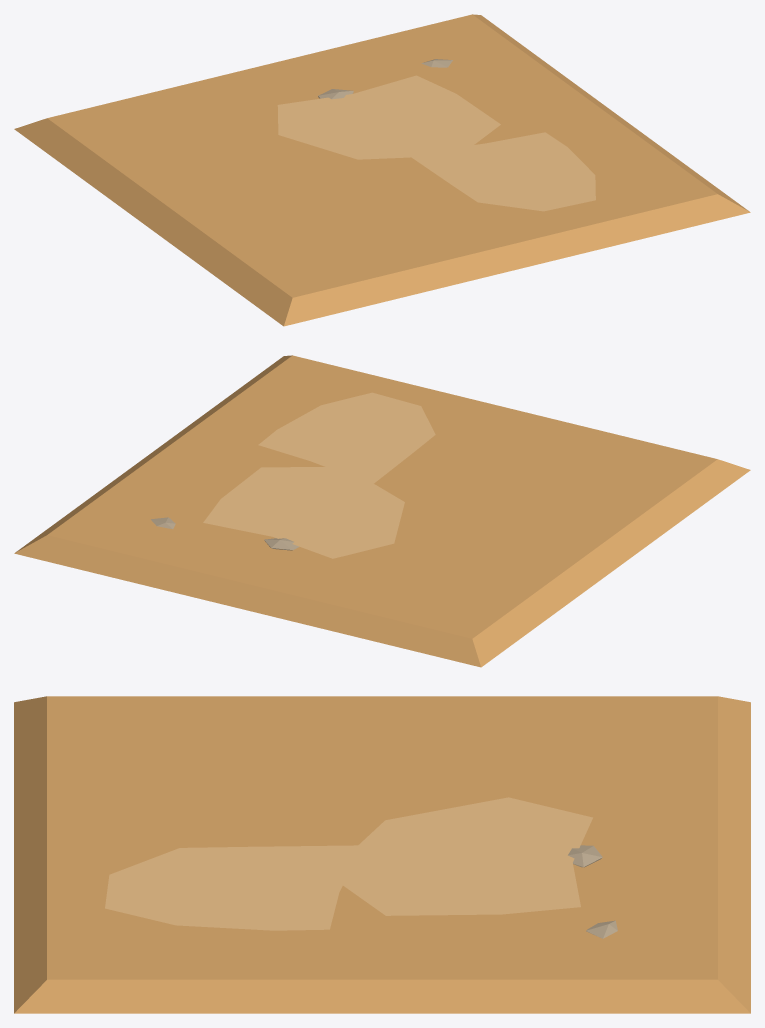
Rendered from path_c.glb.
The picture shows the model from 3 angles, top to bottom: view 1: azimuth 30°, elevation 25°; view 2: azimuth 150°, elevation 25°; view 3: azimuth 270°, elevation 25°; orthographic projection. The views are drawn at different scales.
Visible parts, largest first — view 1: path_c; view 2: path_c; view 3: path_c.
Boxes of the visible parts, x1,y1,x2,y2 form: path_c: (14,14,750,326); path_c: (14,355,750,667); path_c: (14,696,750,1013).
Size of the model in its own units: 1 by 0.0371 by 1.
